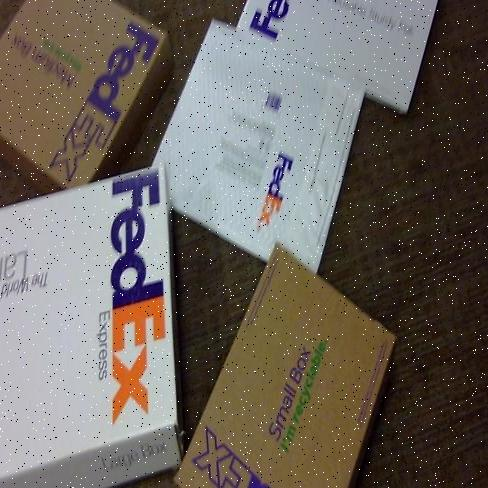Amazon: (0, 177, 186, 488), (190, 246, 379, 488), (178, 23, 360, 274), (0, 0, 173, 197), (245, 0, 439, 112)
